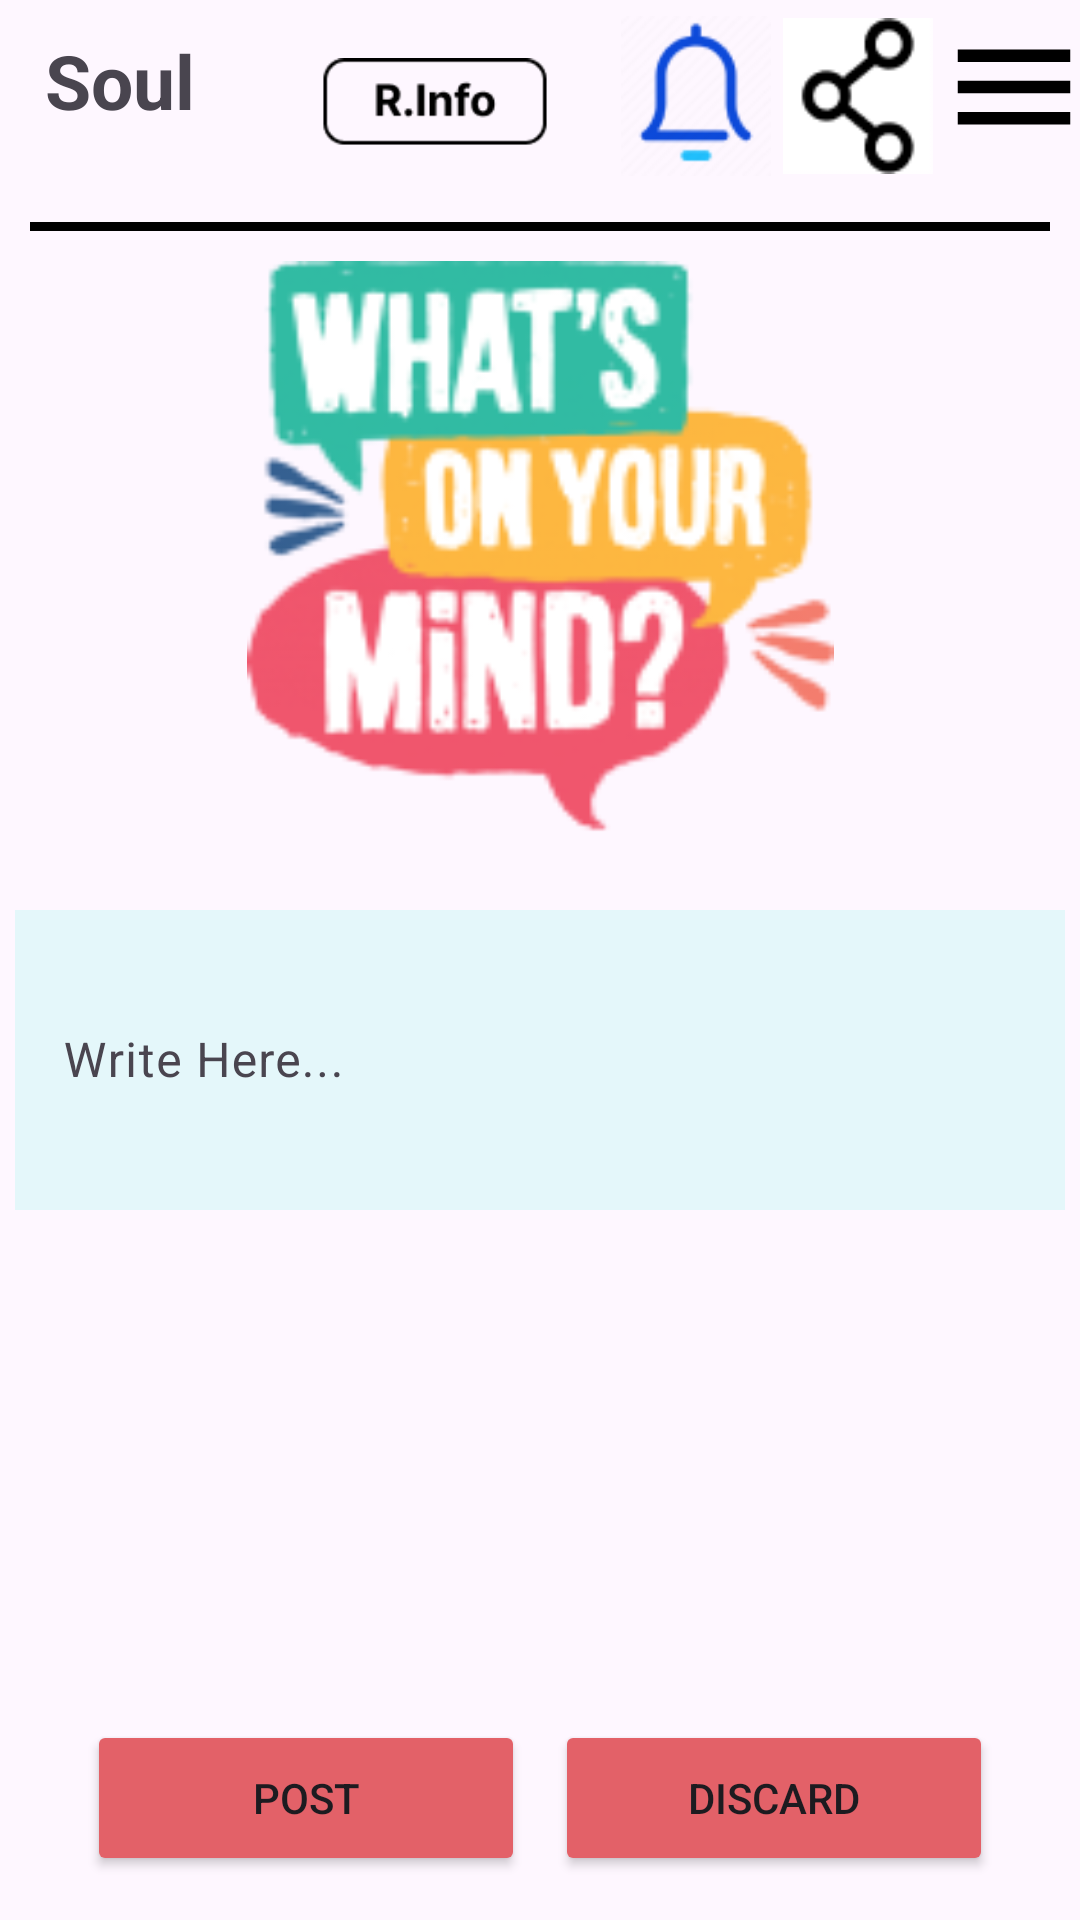

Point at icon controls on the screen. Image size 1080 × 1920, points as (x,y).
menu: (1014,87)
notification: (696,92)
share: (858,96)
